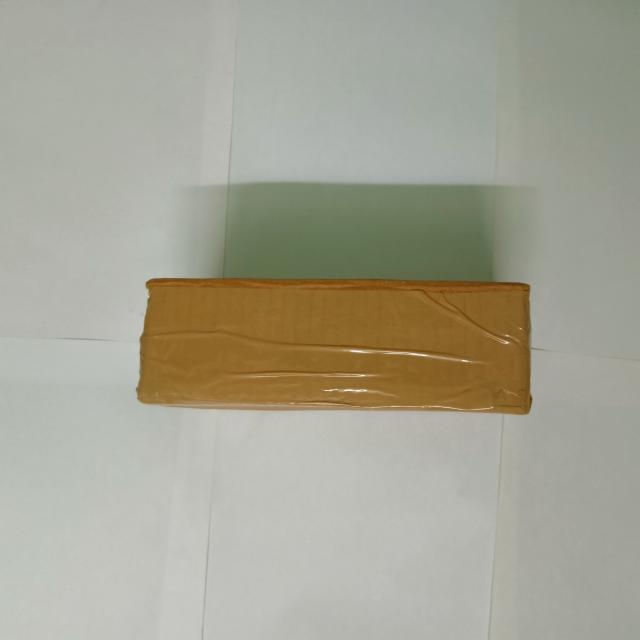box: (137, 278, 535, 419)
